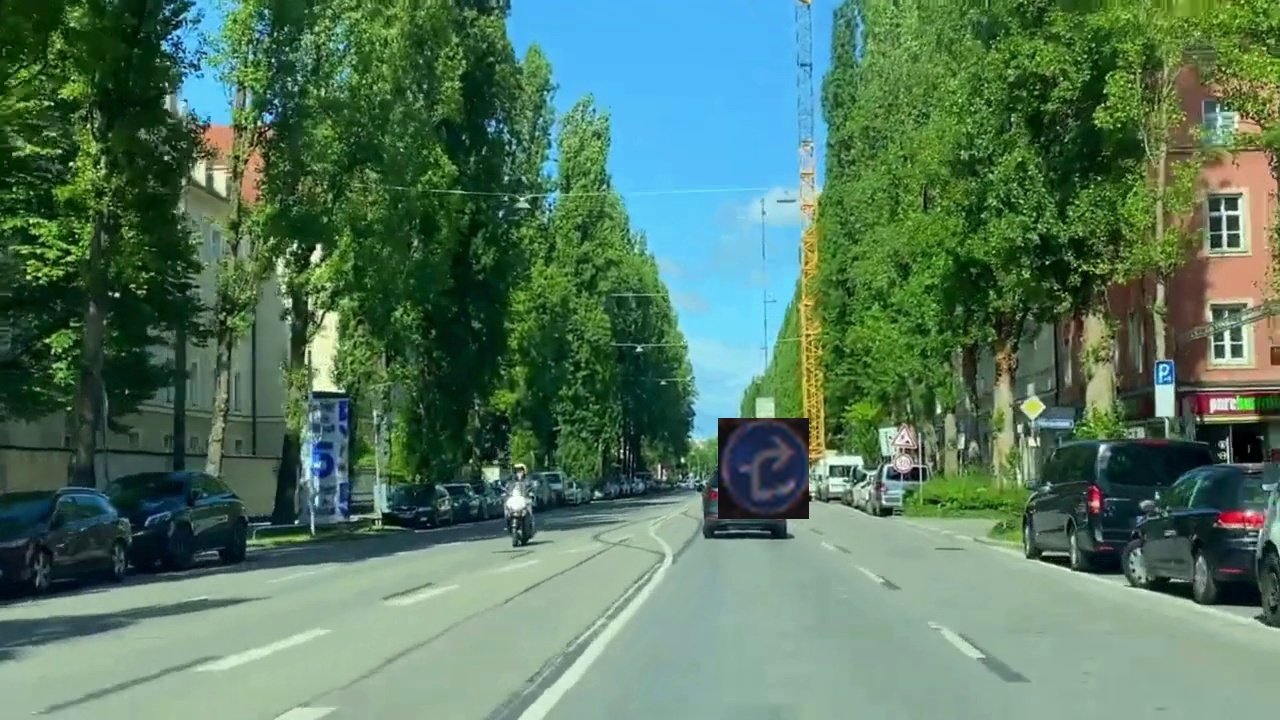Turn right: (718, 418, 809, 519)
